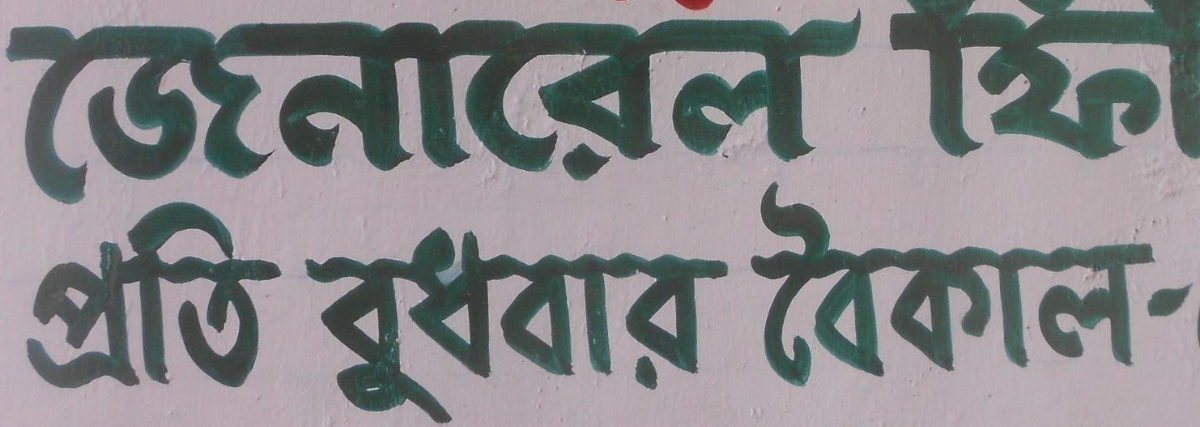text: (17, 6, 32, 223), (33, 6, 48, 223), (49, 6, 64, 223), (65, 6, 80, 223), (81, 6, 96, 223), (97, 6, 112, 223), (113, 6, 128, 223), (129, 6, 144, 223), (145, 6, 160, 223), (161, 6, 176, 223), (177, 6, 192, 223), (193, 6, 208, 223), (209, 6, 224, 223), (225, 6, 240, 223), (241, 6, 256, 223), (257, 6, 272, 223), (273, 6, 288, 223), (289, 6, 304, 223), (305, 6, 320, 223), (321, 6, 336, 223), (337, 6, 352, 223), (353, 6, 368, 223), (369, 6, 384, 223), (385, 6, 400, 223), (401, 6, 416, 223), (417, 6, 432, 223), (433, 6, 448, 223), (449, 6, 464, 223), (465, 6, 480, 223), (481, 6, 496, 223), (497, 6, 512, 223), (513, 6, 528, 223), (529, 6, 544, 223), (545, 6, 560, 223), (561, 6, 576, 223), (577, 6, 592, 223), (593, 6, 608, 223), (609, 6, 624, 223), (625, 6, 640, 223), (641, 6, 656, 223), (657, 6, 672, 223), (673, 6, 688, 223), (689, 6, 704, 223), (705, 6, 720, 223), (721, 6, 736, 223), (737, 6, 752, 223), (753, 6, 768, 223), (769, 6, 784, 223), (785, 6, 800, 223), (801, 6, 816, 223), (817, 6, 832, 223), (833, 6, 848, 223), (849, 6, 864, 223), (753, 180, 768, 391), (769, 180, 784, 391), (785, 180, 800, 391), (801, 180, 816, 391), (817, 180, 832, 391), (833, 180, 848, 391), (849, 180, 864, 391), (865, 180, 880, 391), (881, 180, 896, 391), (897, 180, 912, 391), (913, 180, 928, 391), (929, 180, 944, 391), (945, 180, 960, 391), (961, 180, 976, 391), (977, 180, 992, 391), (993, 180, 1008, 391), (1009, 180, 1024, 391), (1025, 180, 1040, 391), (1041, 180, 1056, 391), (1057, 180, 1072, 391), (1073, 180, 1088, 391), (1089, 180, 1104, 391), (1105, 180, 1120, 391), (1121, 180, 1136, 391), (1137, 180, 1152, 391), (1153, 180, 1168, 391), (1169, 180, 1184, 391), (33, 196, 48, 398), (49, 196, 64, 398), (65, 196, 80, 398), (81, 196, 96, 398), (97, 196, 112, 398), (113, 196, 128, 398), (129, 196, 144, 398), (145, 196, 160, 398), (161, 196, 176, 398), (177, 196, 192, 398), (193, 196, 208, 398), (209, 196, 224, 398), (225, 196, 240, 398), (241, 196, 256, 398), (257, 196, 272, 398), (305, 229, 320, 426), (321, 229, 336, 426), (337, 229, 352, 426), (353, 229, 368, 426), (369, 229, 384, 426), (385, 229, 400, 426), (401, 229, 416, 426), (417, 229, 432, 426), (433, 229, 448, 426), (449, 229, 464, 426), (465, 229, 480, 426), (481, 229, 496, 426), (497, 229, 512, 426), (513, 229, 528, 426), (529, 229, 544, 426), (545, 229, 560, 426), (561, 229, 576, 426), (577, 229, 592, 426), (593, 229, 608, 426), (609, 229, 624, 426), (625, 229, 640, 426), (641, 229, 656, 426), (657, 229, 672, 426), (673, 229, 688, 426), (689, 229, 704, 426), (705, 229, 720, 426), (721, 229, 736, 426), (273, 196, 286, 398), (897, 1, 912, 163), (913, 1, 928, 163), (929, 1, 944, 163), (945, 1, 960, 163), (961, 1, 976, 163), (977, 1, 992, 163), (993, 1, 1008, 163), (1009, 1, 1024, 163), (1025, 1, 1040, 163), (1041, 1, 1056, 163), (1057, 1, 1072, 163), (1073, 1, 1088, 163), (1089, 1, 1104, 163), (1105, 1, 1120, 163), (1121, 1, 1136, 163), (1137, 1, 1152, 163), (1153, 1, 1168, 163), (1169, 1, 1184, 163), (1185, 1, 1200, 163), (865, 6, 876, 223), (1185, 180, 1196, 391), (6, 6, 16, 223), (22, 196, 32, 398), (737, 229, 746, 426), (747, 180, 752, 391), (299, 229, 304, 426), (892, 1, 896, 163), (673, 1, 688, 12), (689, 1, 704, 12), (705, 1, 718, 12), (669, 1, 672, 12)
